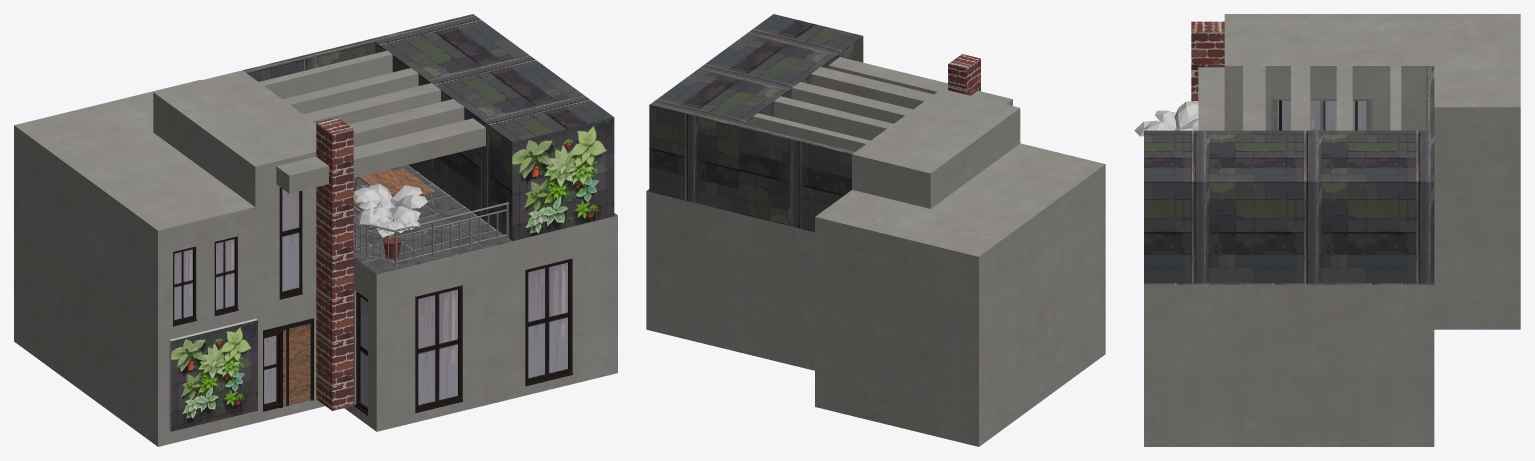
Rendered from poshHouse.fbx.
3 views of the same model, side by side, from view 1: azimuth 30°, elevation 25°; view 2: azimuth 150°, elevation 25°; view 3: azimuth 270°, elevation 25° (orthographic). The views are drawn at different scales.
Parts seen in each view (by area): view 1: poshHouse; view 2: poshHouse; view 3: poshHouse.
Part boxes in pixels (x1=…): poshHouse: x1=14, y1=14, x2=617, y2=446; poshHouse: x1=646, y1=14, x2=1105, y2=446; poshHouse: x1=1134, y1=14, x2=1520, y2=446.
Bounding box in the file's own units: 12.01 × 7.8 × 9.3.
